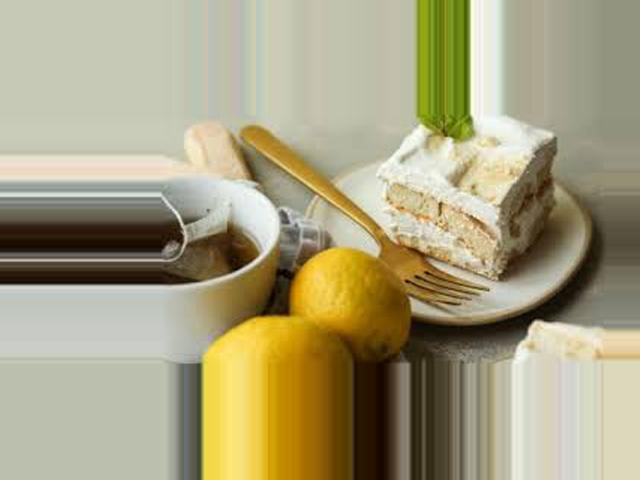lemon: (196, 311, 355, 365)
